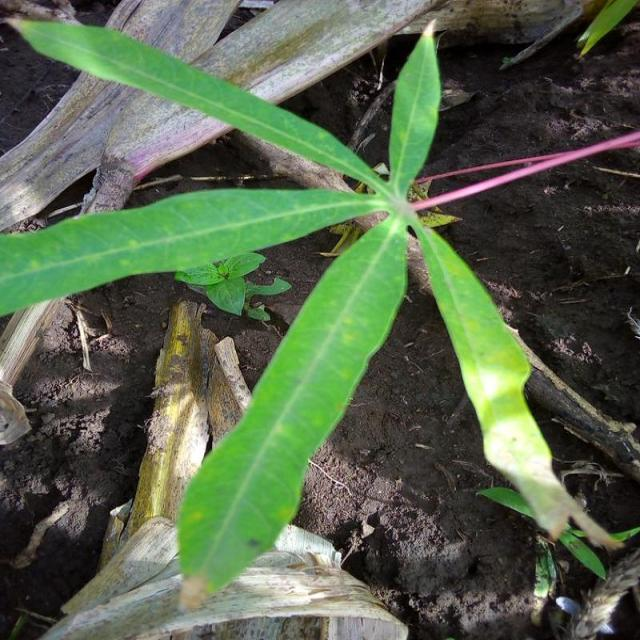cassava leaf: (1, 3, 632, 610), (174, 212, 409, 609), (410, 218, 634, 577)
